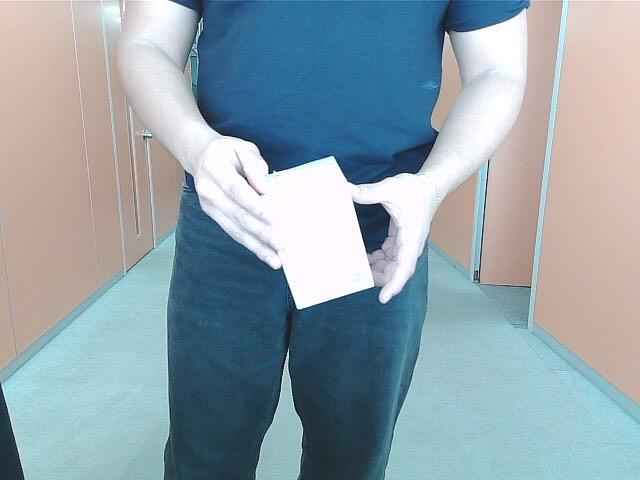Blind_box: (263, 148, 375, 318)
